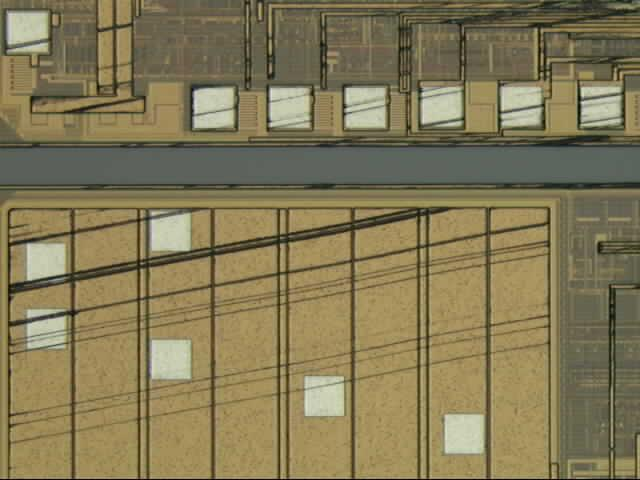SCRATCH: (1, 1, 640, 450)
